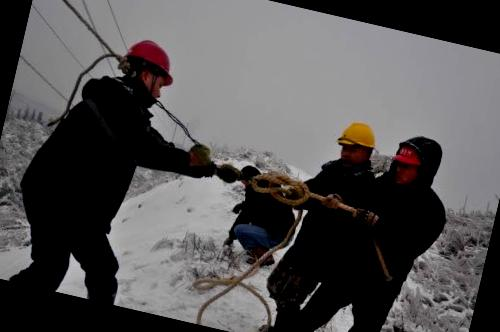no_helmet: (231, 159, 264, 191)
